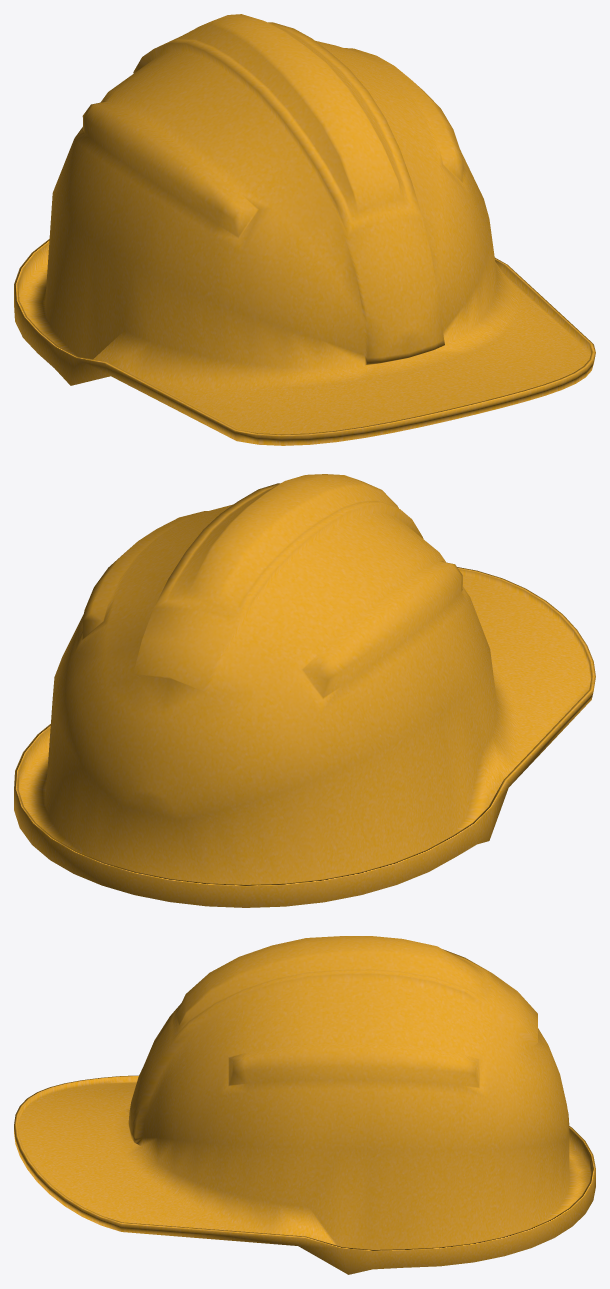
The model's file is safety_helmet_converted.fbx.
The picture shows the model from 3 angles, top to bottom: view 1: azimuth 30°, elevation 25°; view 2: azimuth 150°, elevation 25°; view 3: azimuth 270°, elevation 25°; orthographic projection. The views are drawn at different scales.
Visible parts, largest first — view 1: Helmet_lambert1_0; view 2: Helmet_lambert1_0; view 3: Helmet_lambert1_0.
Part boxes in pixels (left/top/right/bottom): Helmet_lambert1_0: left=14, top=14, right=595, bottom=445; Helmet_lambert1_0: left=14, top=474, right=595, bottom=907; Helmet_lambert1_0: left=14, top=936, right=595, bottom=1274.
Size of the model in its own units: 2.23 by 1.48 by 3.15.
1 material, 1 textured.
